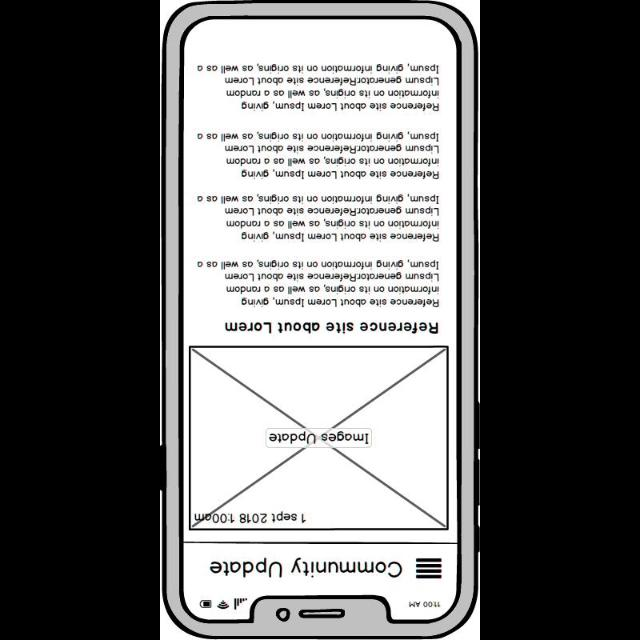icon: (414, 556, 442, 580)
image: (188, 346, 448, 530)
text: (197, 259, 441, 309), (196, 193, 440, 243), (197, 131, 441, 181), (196, 63, 440, 113), (209, 556, 403, 578), (225, 321, 440, 335), (268, 430, 369, 446), (194, 511, 306, 525)
toolbar: (184, 543, 456, 593)
